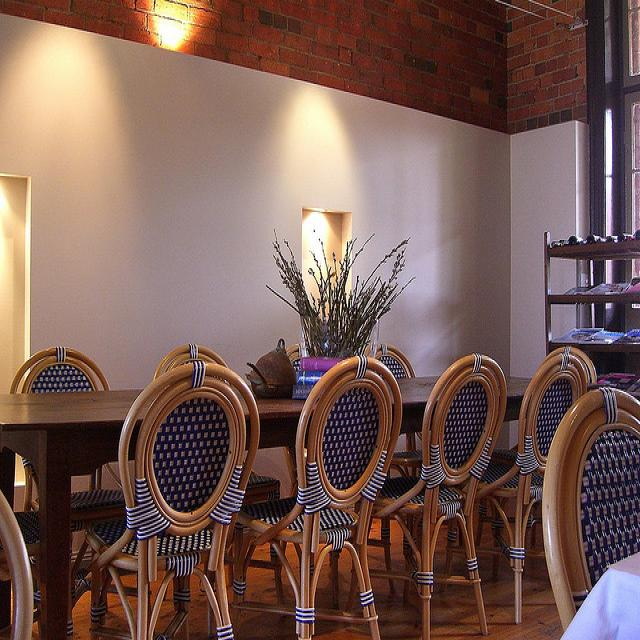chair: (91, 362, 263, 640), (233, 361, 404, 632), (368, 352, 507, 640), (477, 348, 596, 617), (539, 387, 640, 626), (11, 347, 125, 512), (21, 502, 104, 576), (1, 498, 32, 640), (152, 342, 231, 381), (364, 342, 417, 378), (286, 343, 300, 365)
dining table: (1, 373, 534, 640), (561, 552, 639, 639)
